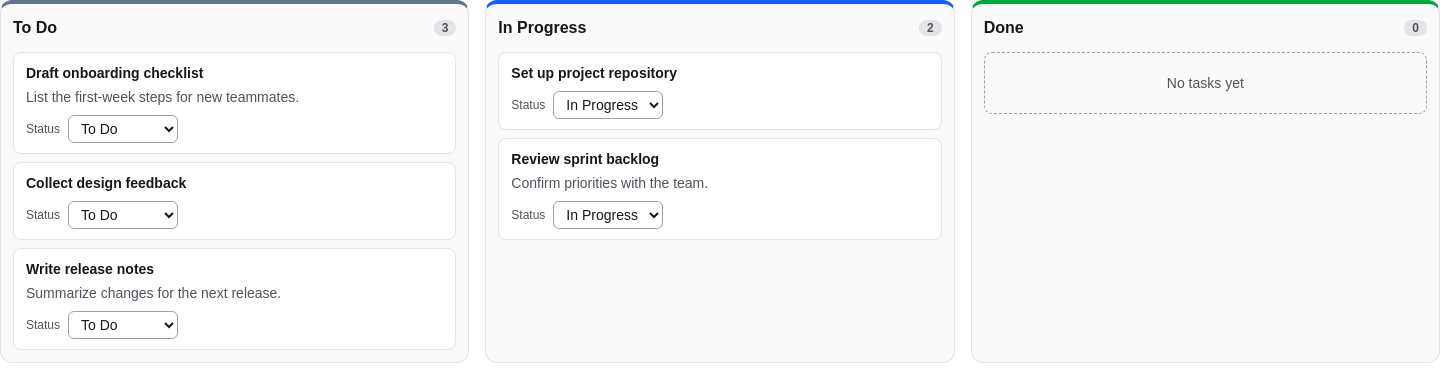
Test: Board › moves a card immediately and updates both counts when its status changes
Select "Done" in the dropdown named "Status for Draft onboarding checklist" at (123,129), box [68,115,178,143]
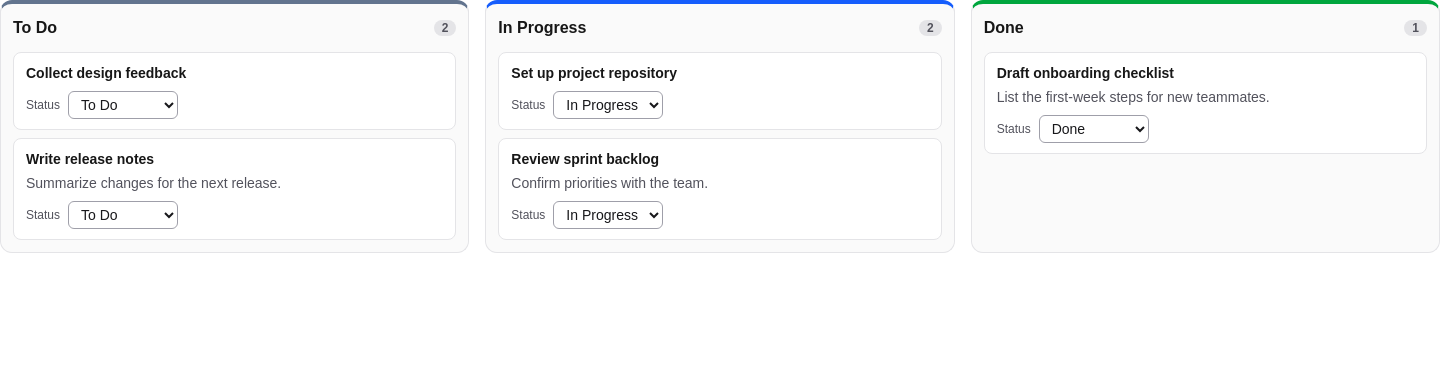
Check: the heading "Draft onboarding checklist" is shown, box [997,65,1174,81]
Check: the text "No tasks yet" is gone
